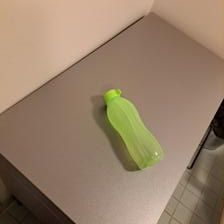bottle: (98, 87, 164, 170)
